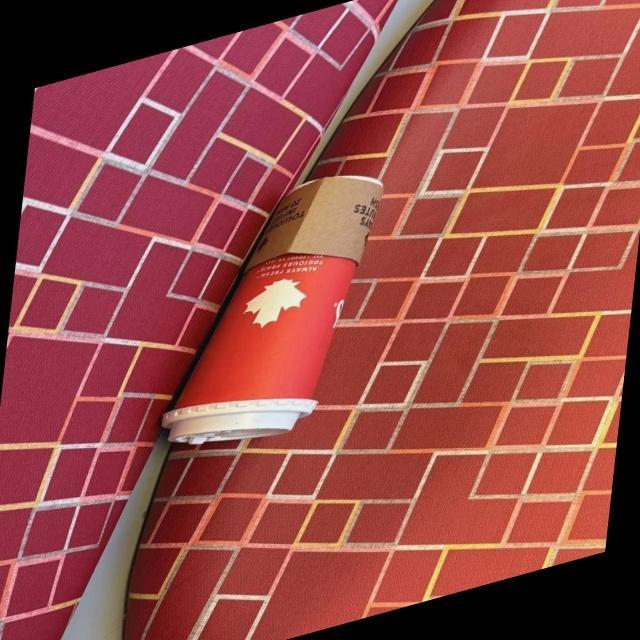timmies: (152, 164, 385, 453)
